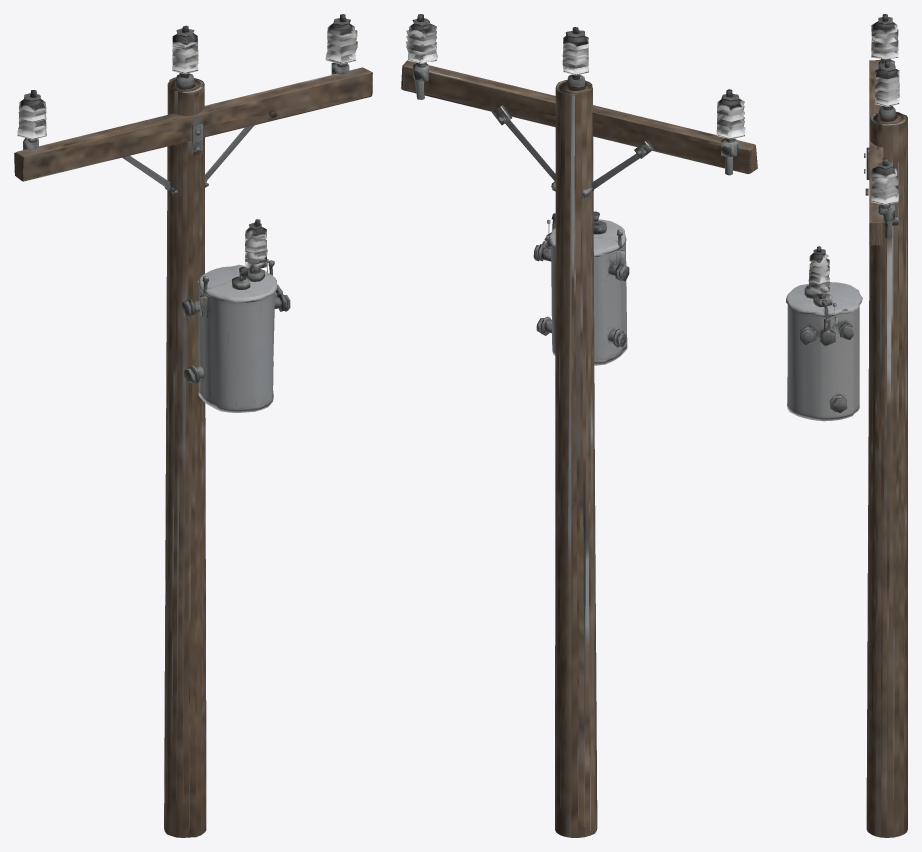
The picture shows the model from 3 angles, left to right: view 1: azimuth 30°, elevation 25°; view 2: azimuth 150°, elevation 25°; view 3: azimuth 270°, elevation 25°; orthographic projection. The views are drawn at different scales.
Size of the model in its own units: 0.436 by 0.9512 by 0.1367.
Materials: 1 (1 with a texture image).
